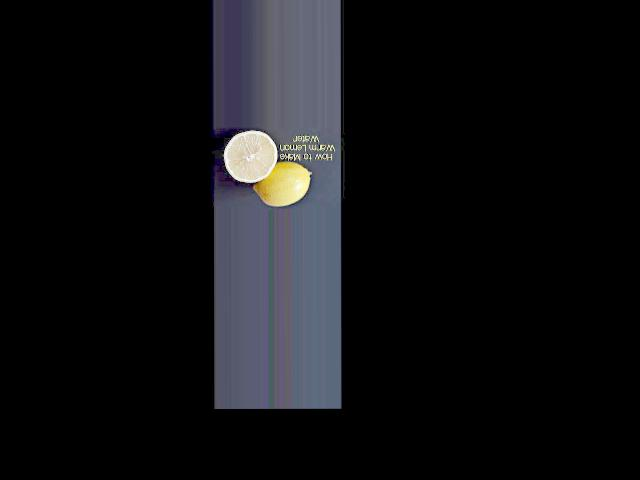lemon: (254, 164, 313, 207)
